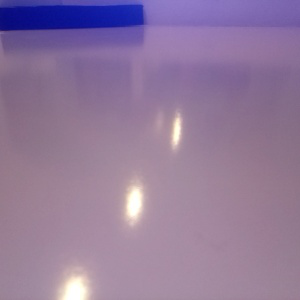zone: (1, 4, 145, 31)
